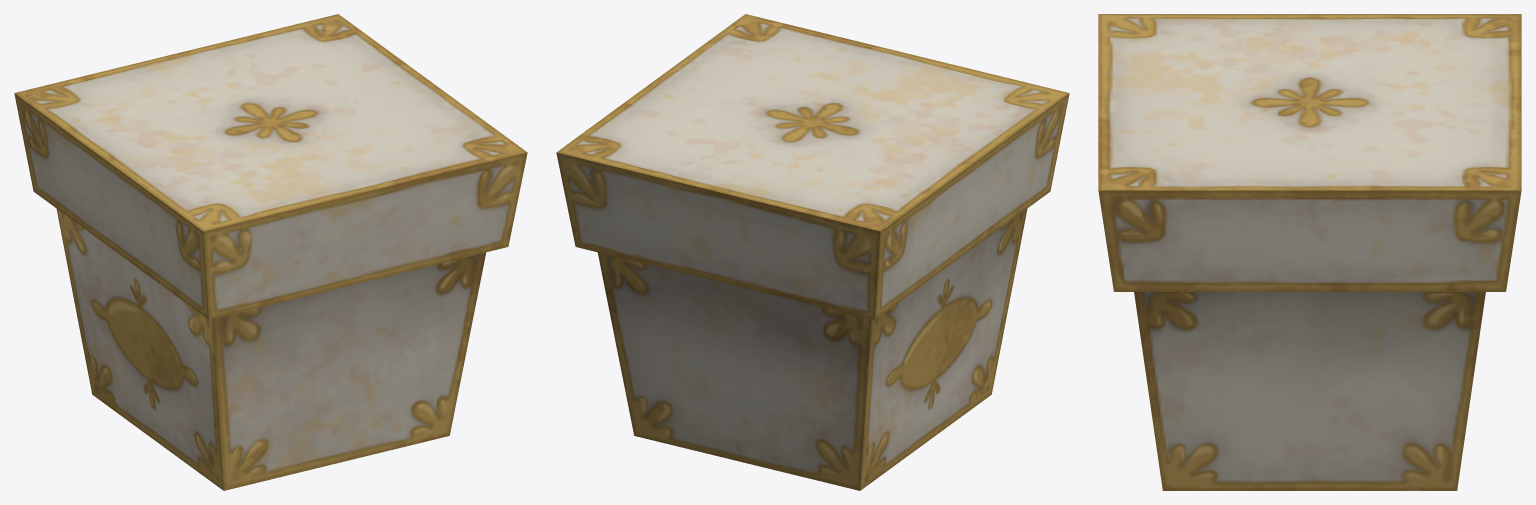
The model's file is SM_Farm_SewingBox_01.fbx.
3 renders of one model, left to right at view 1: azimuth 30°, elevation 25°; view 2: azimuth 150°, elevation 25°; view 3: azimuth 270°, elevation 25°, orthographic. The views are drawn at different scales.
Visible parts, largest first — view 1: SM_Farm_SewingBox_01_LOD0; view 2: SM_Farm_SewingBox_01_LOD0; view 3: SM_Farm_SewingBox_01_LOD0.
Part boxes in pixels (left/top/right/bottom): SM_Farm_SewingBox_01_LOD0: left=14, top=14, right=527, bottom=490; SM_Farm_SewingBox_01_LOD0: left=556, top=14, right=1069, bottom=490; SM_Farm_SewingBox_01_LOD0: left=1098, top=14, right=1521, bottom=490.
Bounding box in the file's own units: 42.51 × 36.65 × 42.99.
